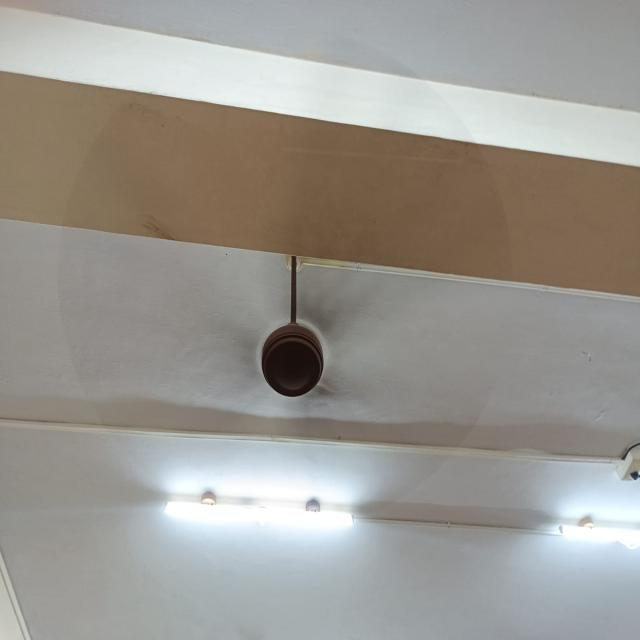fan_on: (55, 54, 520, 511)
tubelight_on: (159, 472, 359, 541), (559, 519, 640, 563)
